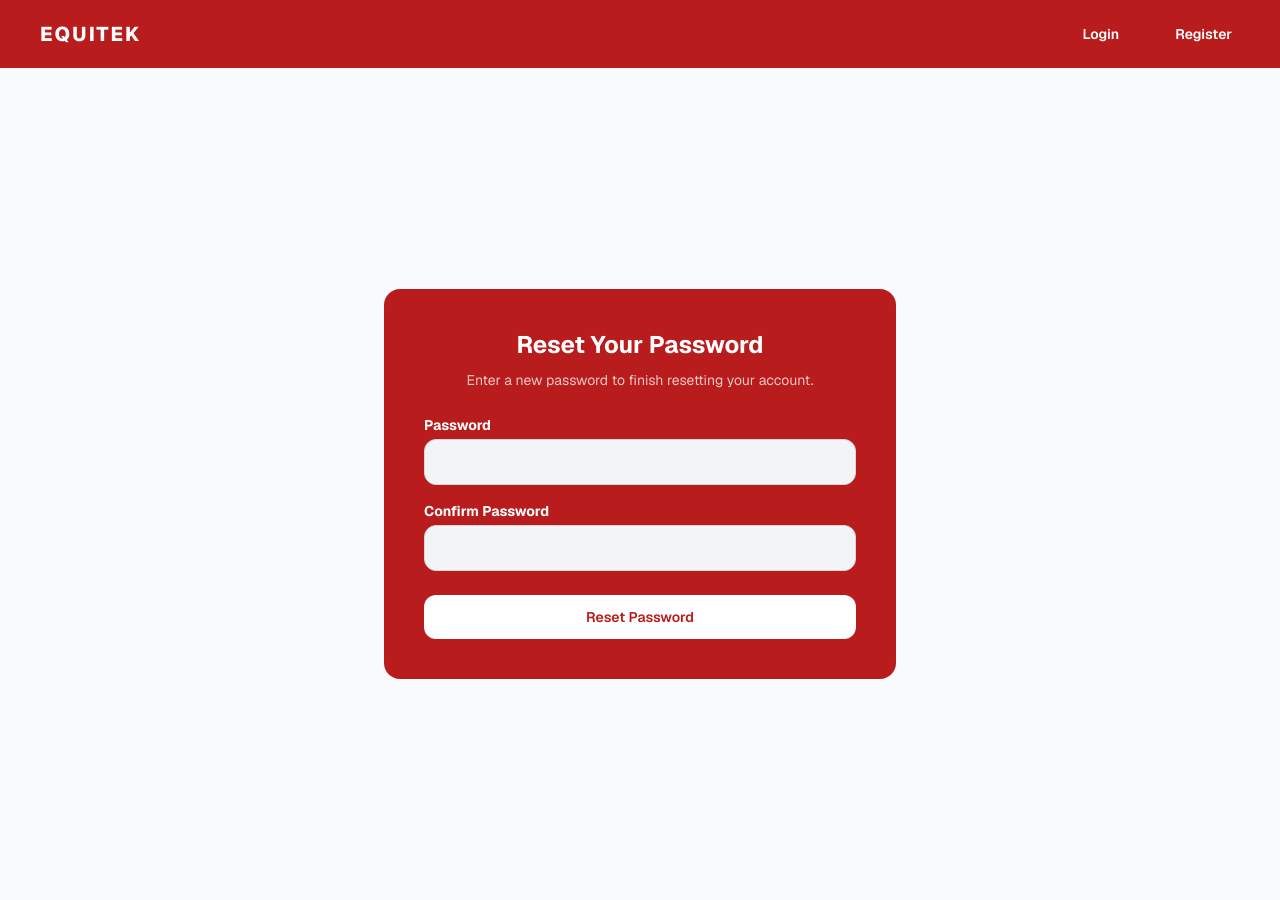
Test: Reset Password Page › shows success state and login link on 200 OK
Type "Strong#123" into the password field labelled "Password" at (640, 462), box [424,439,856,485]
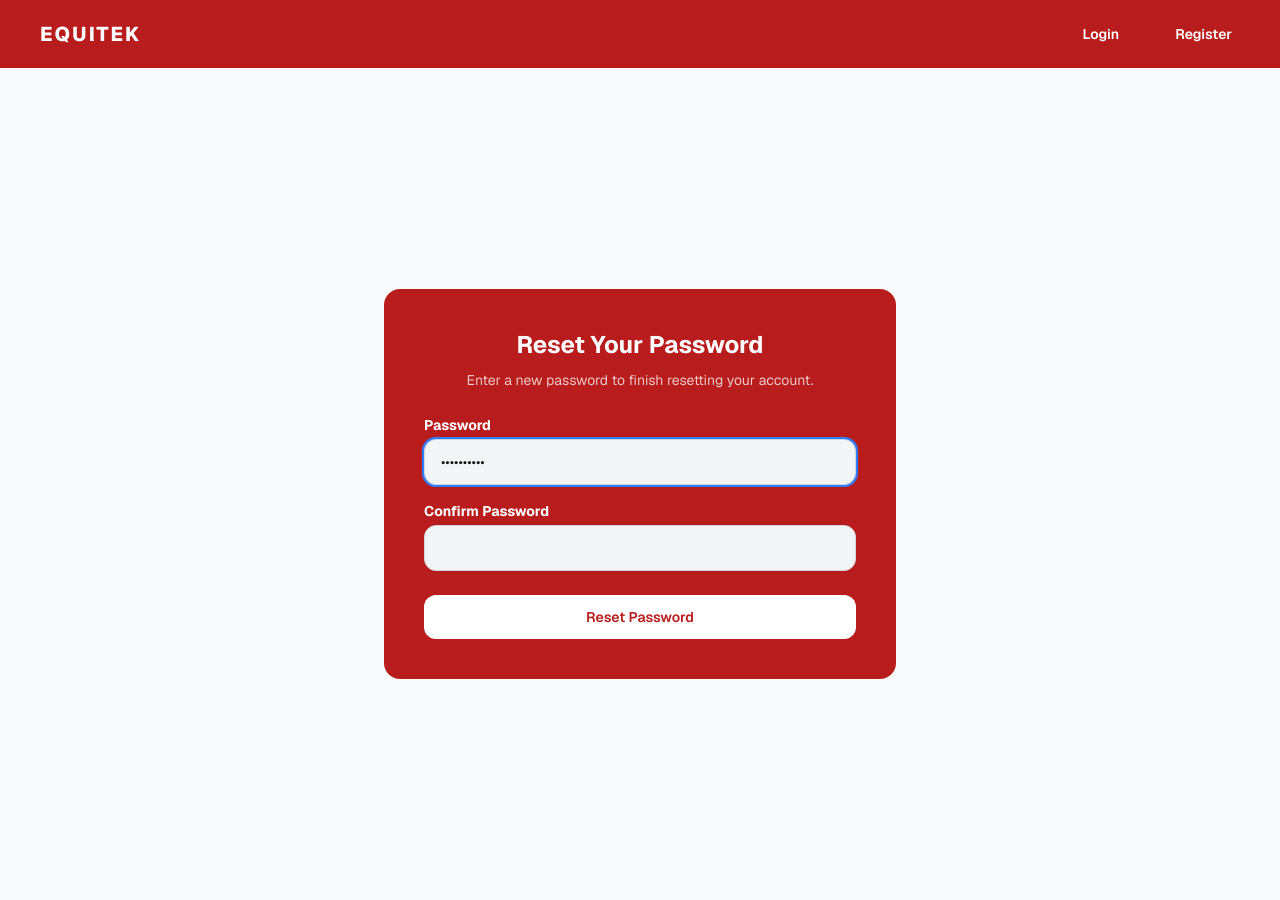
Type "Strong#123" into the password field labelled "Confirm Password" at (640, 548), box [424,525,856,571]
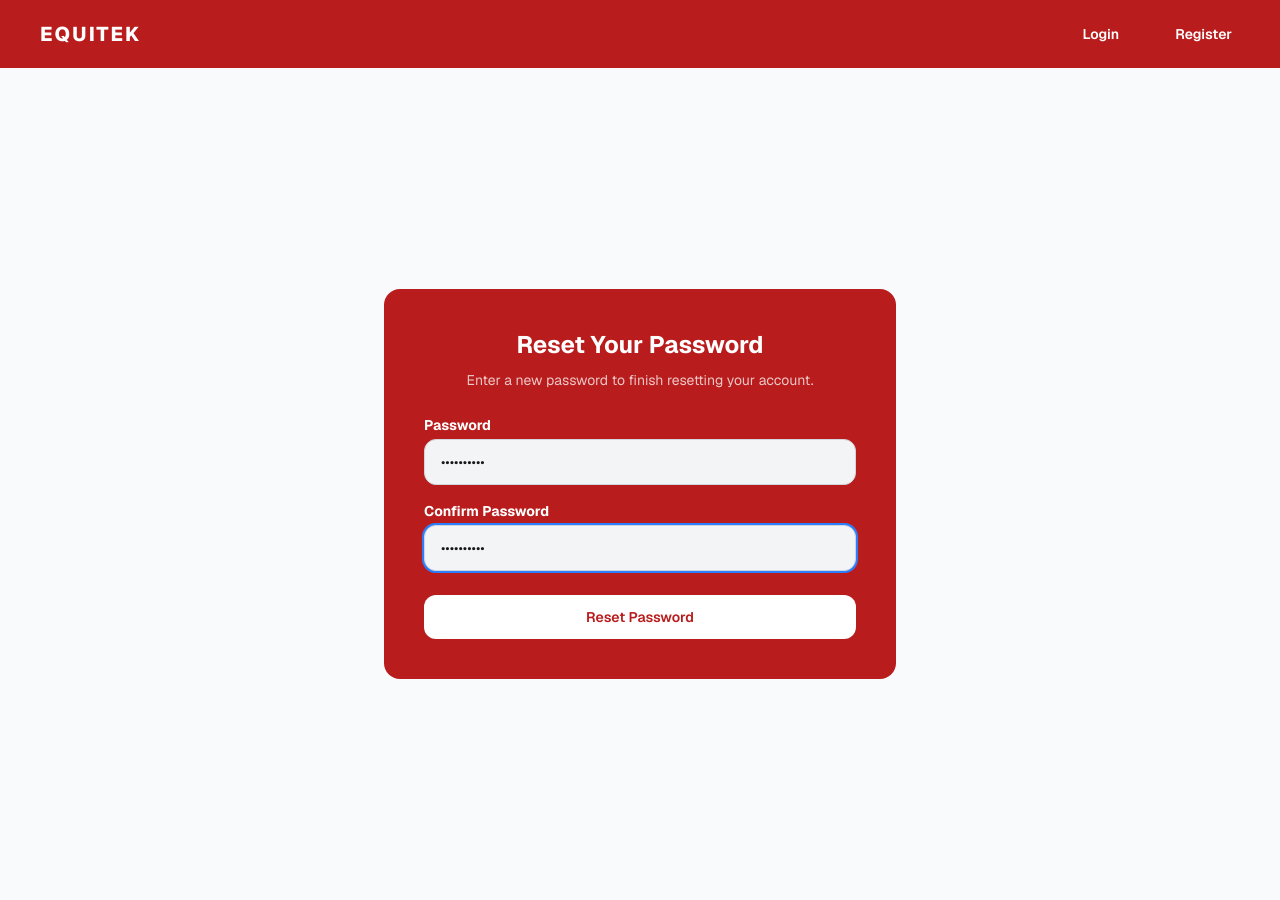
Click the button "Reset Password" at (640, 617), box [424,595,856,639]
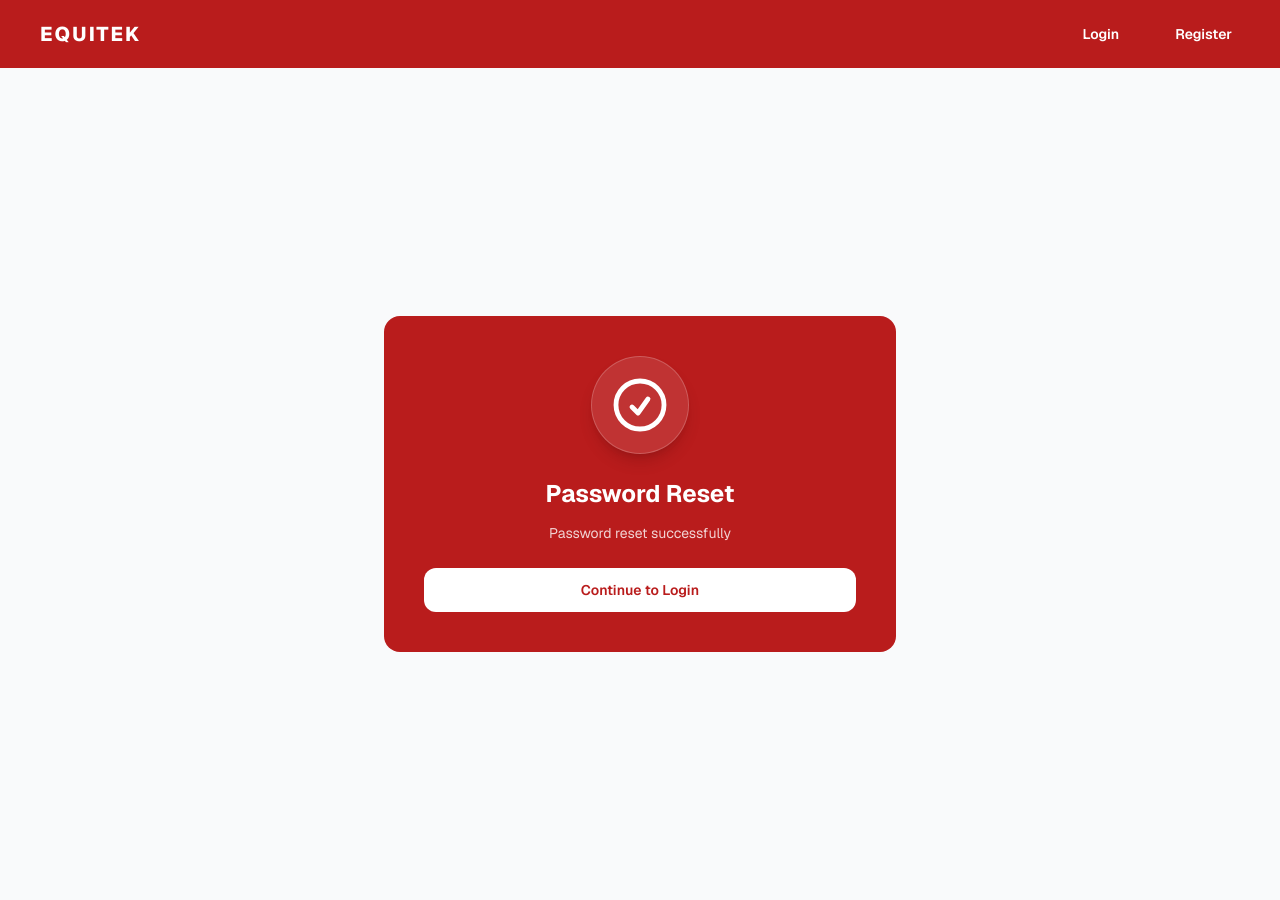
Expected: the text "Password reset successfully" is shown, [546,522,734,544]
Expected: the link "Continue to Login" is shown, [424,568,856,612]
